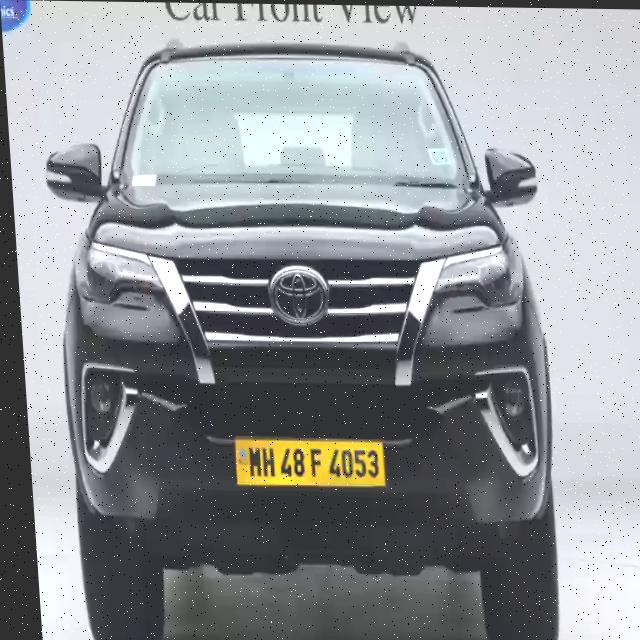plate: (222, 430, 385, 497)
